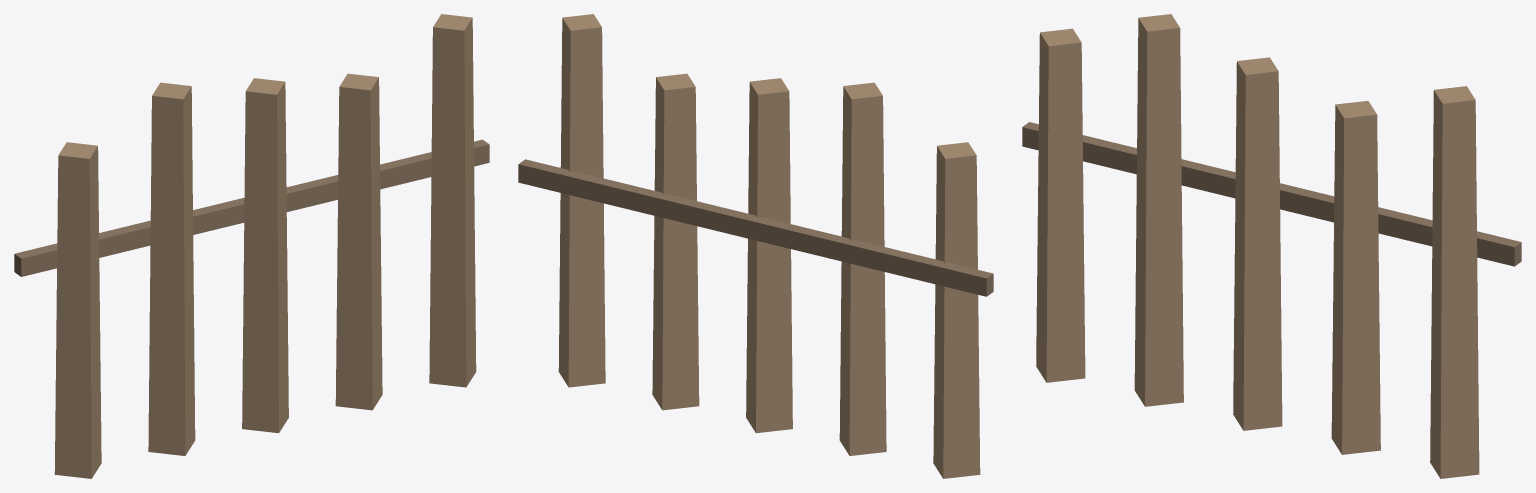
3 renders of one model, left to right at view 1: azimuth 30°, elevation 25°; view 2: azimuth 150°, elevation 25°; view 3: azimuth 330°, elevation 25°, orthographic. The views are drawn at different scales.
Parts seen in each view (by area): view 1: structure.palisade; view 2: structure.palisade; view 3: structure.palisade.
Boxes of the visible parts, left/top/right/bottom form: structure.palisade: left=14, top=14, right=489, bottom=478; structure.palisade: left=518, top=14, right=993, bottom=478; structure.palisade: left=1022, top=14, right=1521, bottom=478.
Size of the model in its own units: 4 by 2.9 by 0.45.
